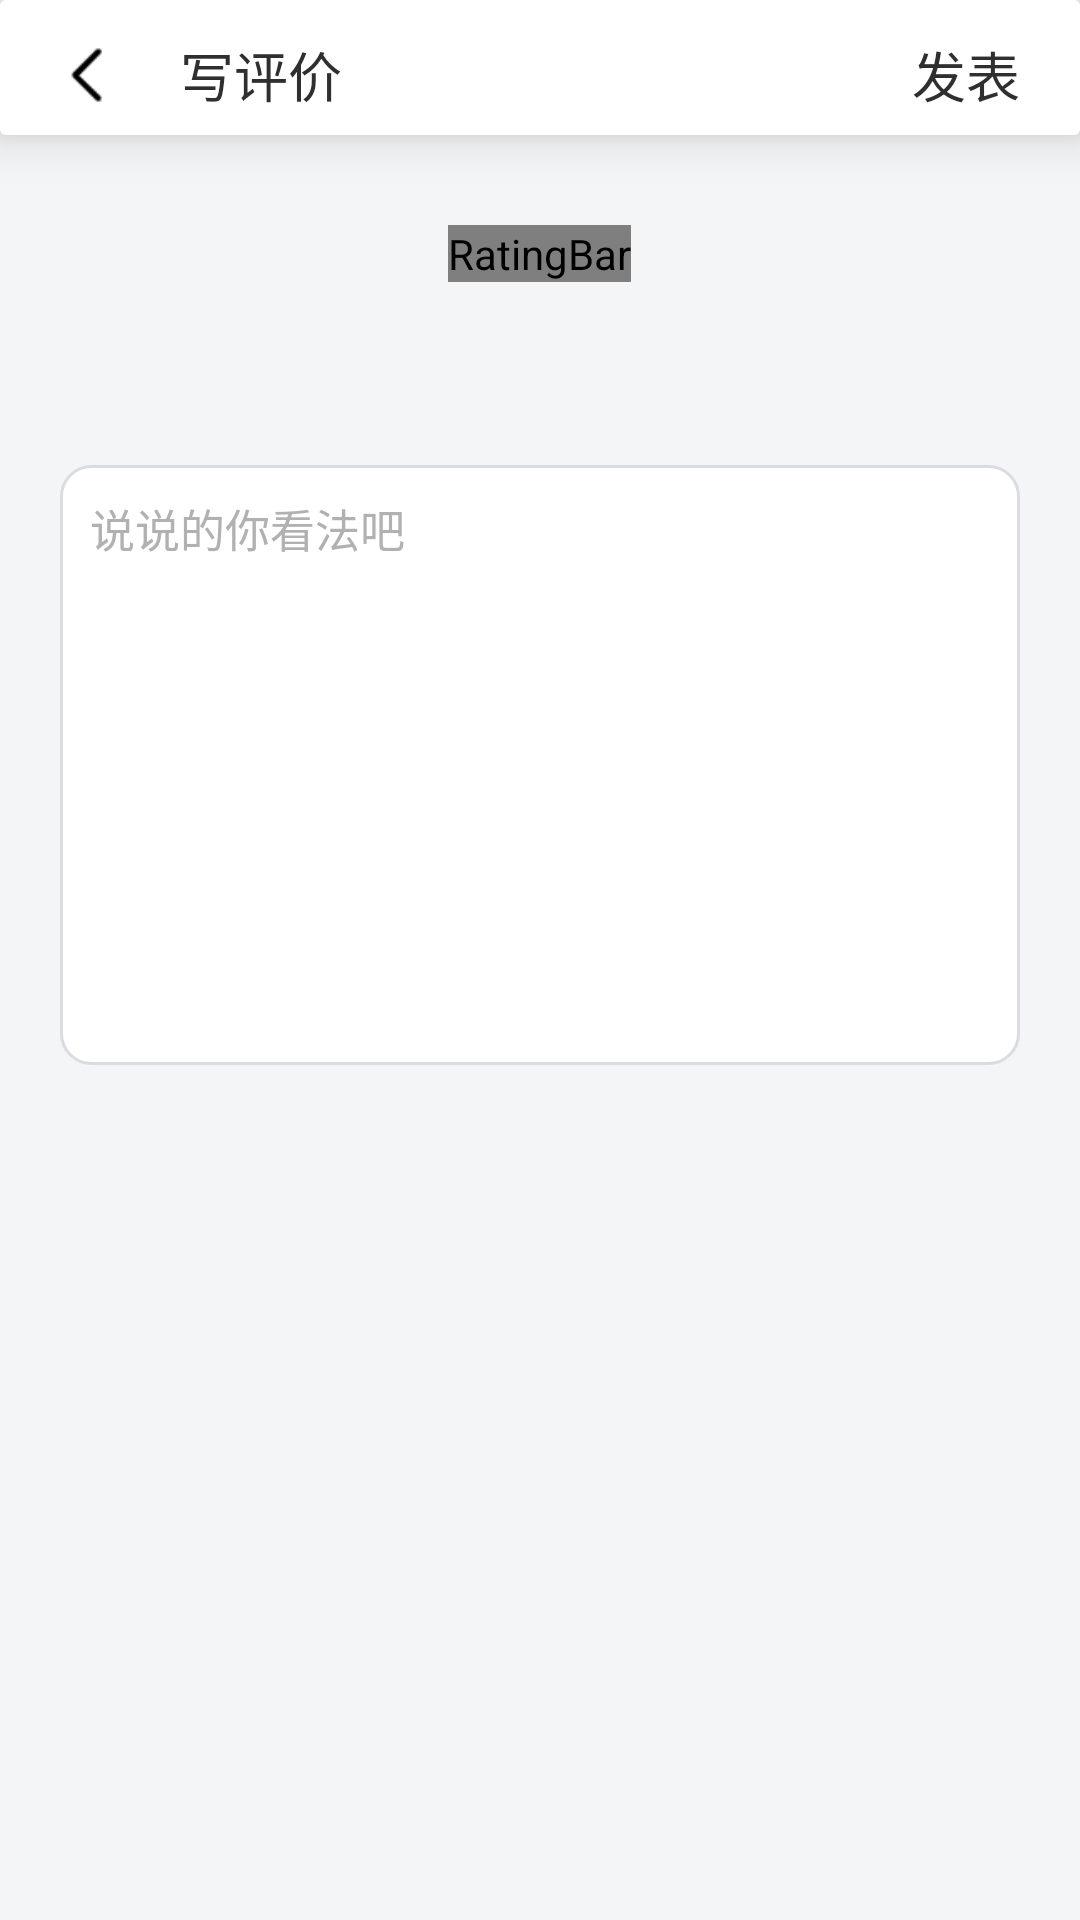

Icons on this 1080*1920 Android screen, each with the point to tap as [x,y]:
arrow back nobar: [86,75]
